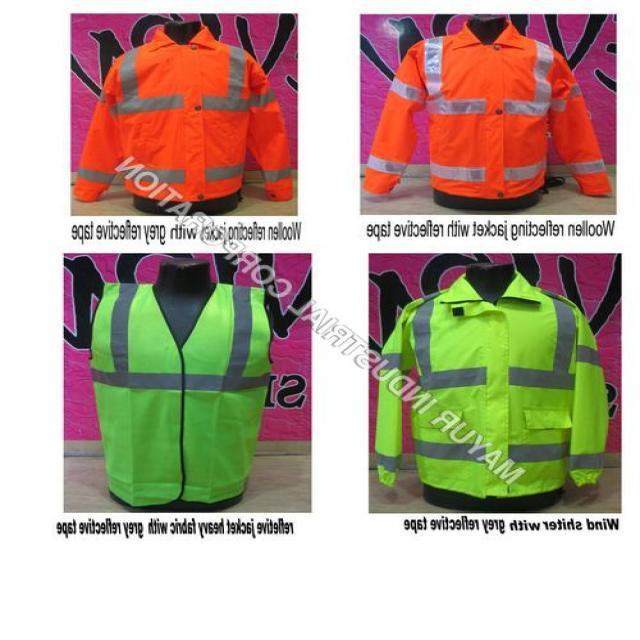reflective_jacket: (389, 286, 614, 514), (86, 277, 280, 509), (367, 35, 582, 211), (75, 40, 279, 210)
